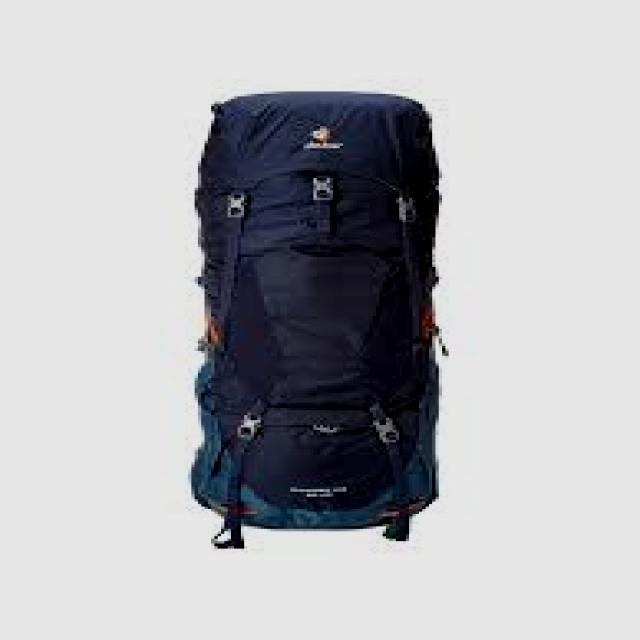backpack: (189, 90, 447, 550)
